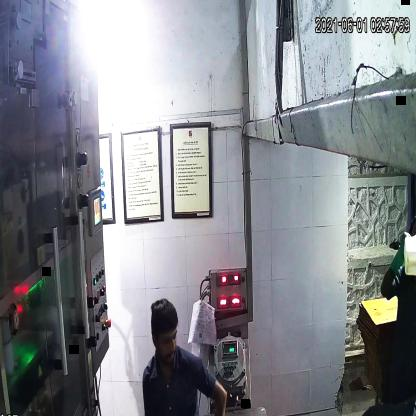no_goggles: (148, 325, 181, 351)
